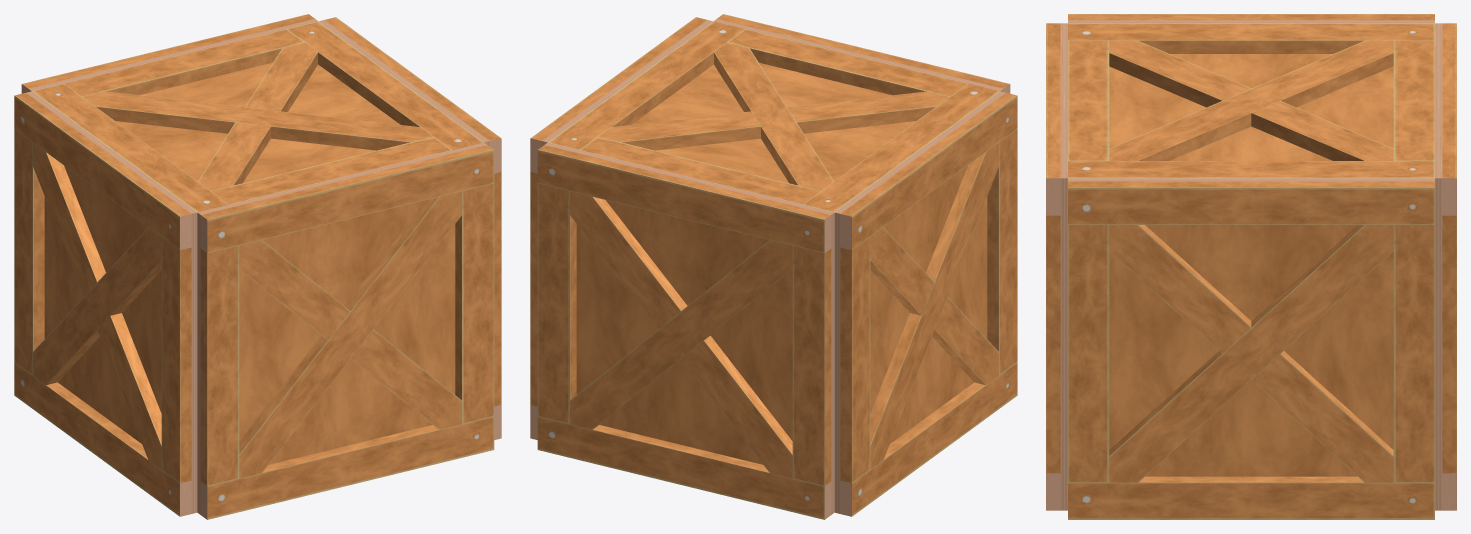
3 views of the same model, side by side, from view 1: azimuth 30°, elevation 25°; view 2: azimuth 150°, elevation 25°; view 3: azimuth 270°, elevation 25° (orthographic). The views are drawn at different scales.
Parts seen in each view (by area): view 1: Box; view 2: Box; view 3: Box.
Boxes of the visible parts, left/top/right/bottom form: Box: left=14, top=14, right=501, bottom=519; Box: left=530, top=14, right=1017, bottom=519; Box: left=1046, top=14, right=1456, bottom=519.
Bounding box in the file's own units: 2.24 × 2 × 2.24.
